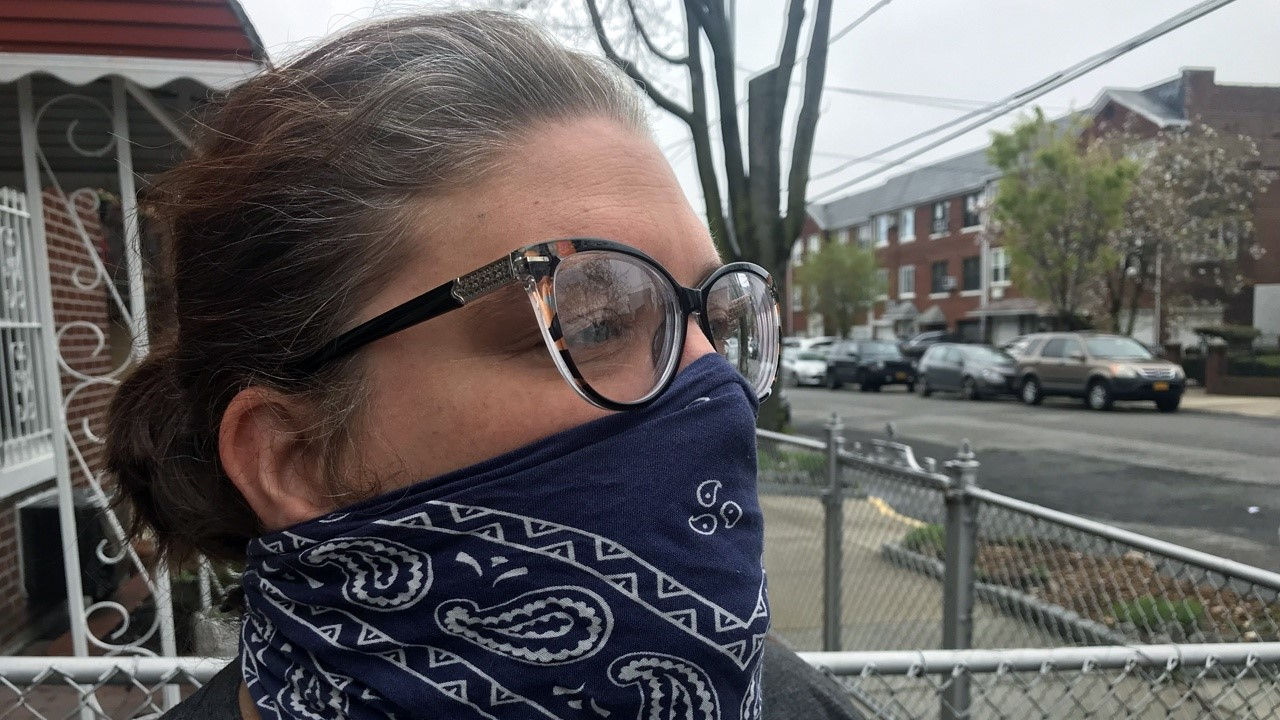face_with_mask: (222, 38, 765, 720)
